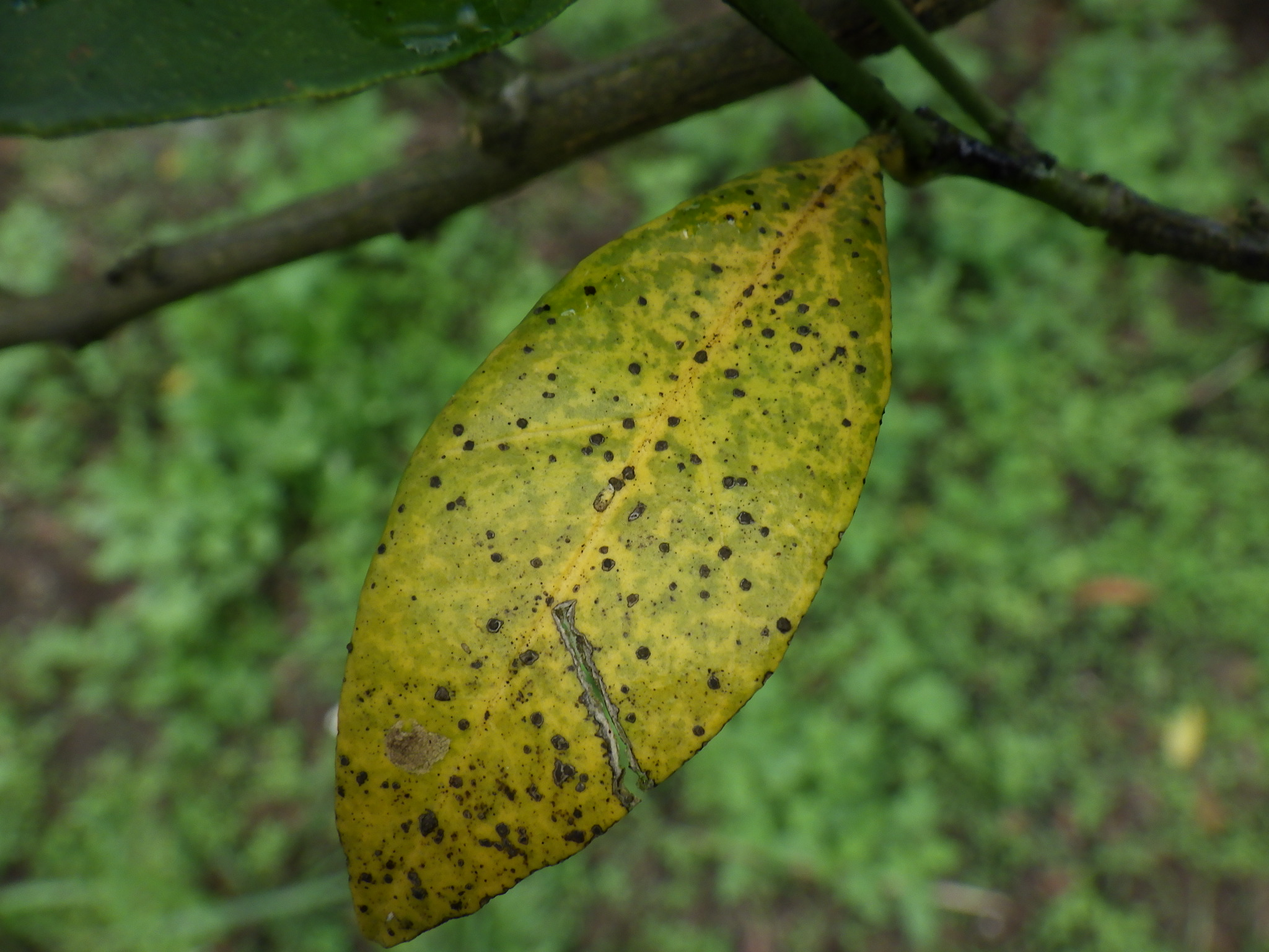Oily_Spot: (337, 150, 891, 945)
